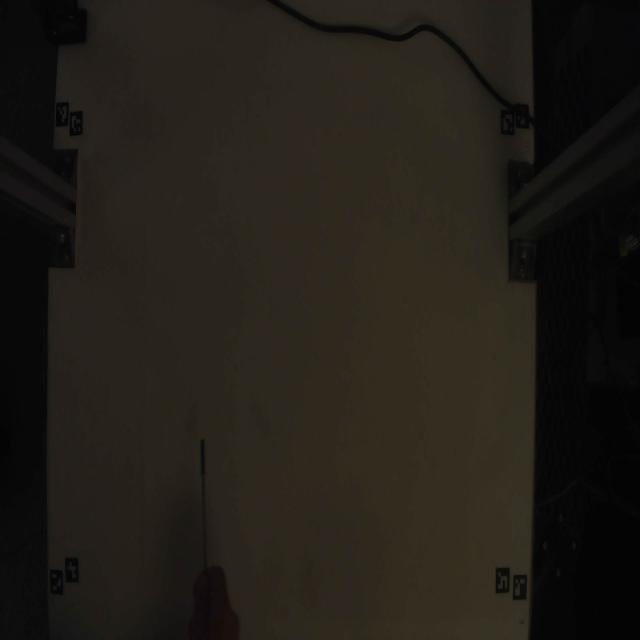NoPres: (193, 431, 216, 571)
